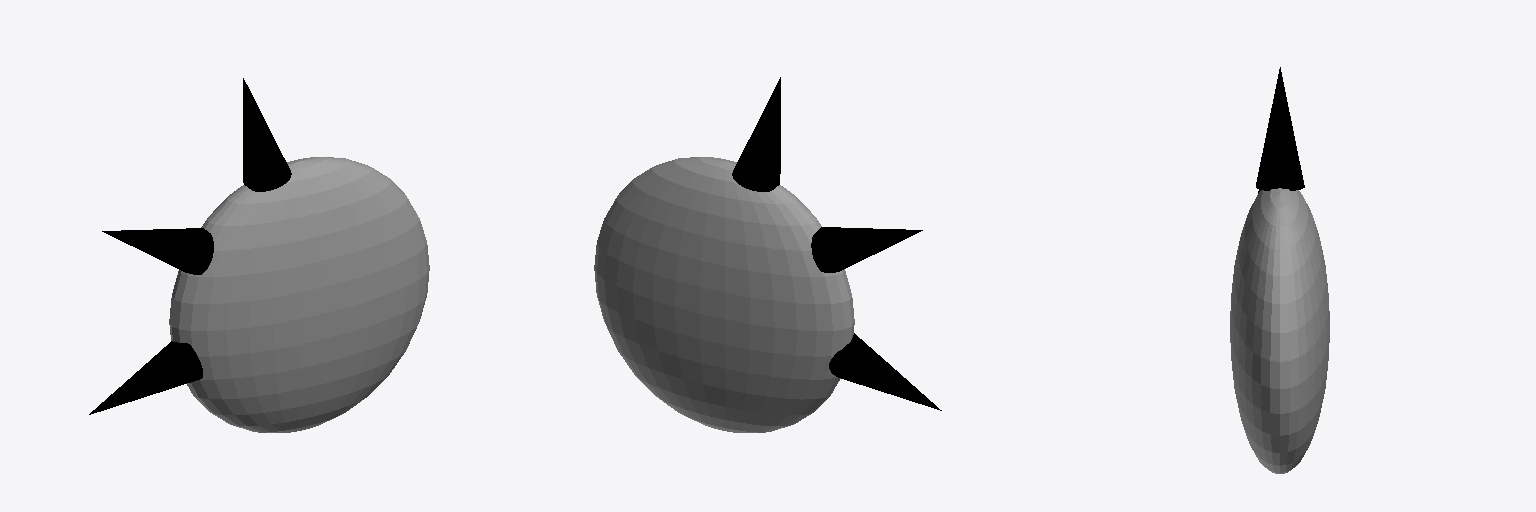
The model's file is Bear_LeftHand.obj.
3 renders of one model, left to right at view 1: azimuth 30°, elevation 25°; view 2: azimuth 150°, elevation 25°; view 3: azimuth 270°, elevation 25°, orthographic.
Visible parts, largest first — view 1: Sphere.007, Cone.005, Cone.003, Cone.004; view 2: Sphere.007, Cone.003, Cone.004, Cone.005; view 3: Sphere.007, Cone.003.
Boxes of the visible parts, x1=… form: Sphere.007: x1=169, y1=157, x2=429, y2=432; Cone.005: x1=89, y1=341, x2=202, y2=414; Cone.003: x1=243, y1=78, x2=291, y2=191; Cone.004: x1=102, y1=228, x2=213, y2=274; Sphere.007: x1=594, y1=157, x2=854, y2=432; Cone.003: x1=732, y1=77, x2=780, y2=191; Cone.004: x1=811, y1=227, x2=922, y2=272; Cone.005: x1=829, y1=333, x2=941, y2=410; Sphere.007: x1=1230, y1=188, x2=1329, y2=473; Cone.003: x1=1256, y1=67, x2=1304, y2=190.
Size of the model in its own units: 0.6237 by 0.6384 by 0.1579.